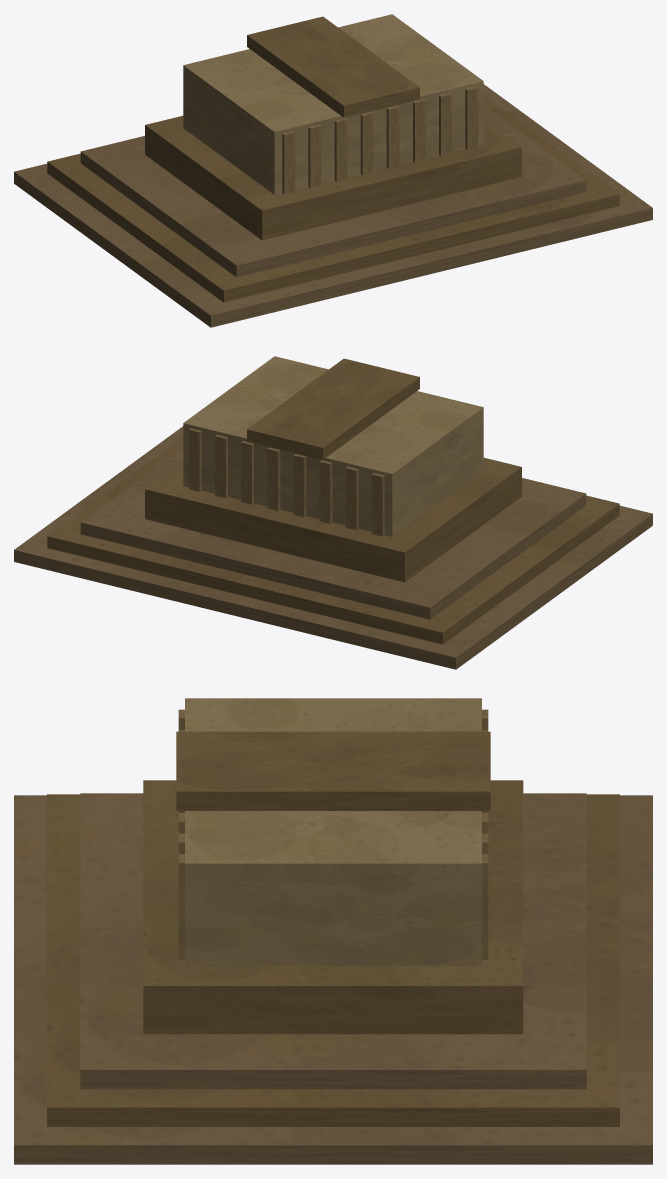
The model's file is ziggurat-b55.glb.
The picture shows the model from 3 angles, top to bottom: view 1: azimuth 30°, elevation 25°; view 2: azimuth 150°, elevation 25°; view 3: azimuth 270°, elevation 25°; orthographic projection. The views are drawn at different scales.
Bounding box in the file's own units: 13.96 × 4.24 × 10.77.
4 materials, 4 textured.
